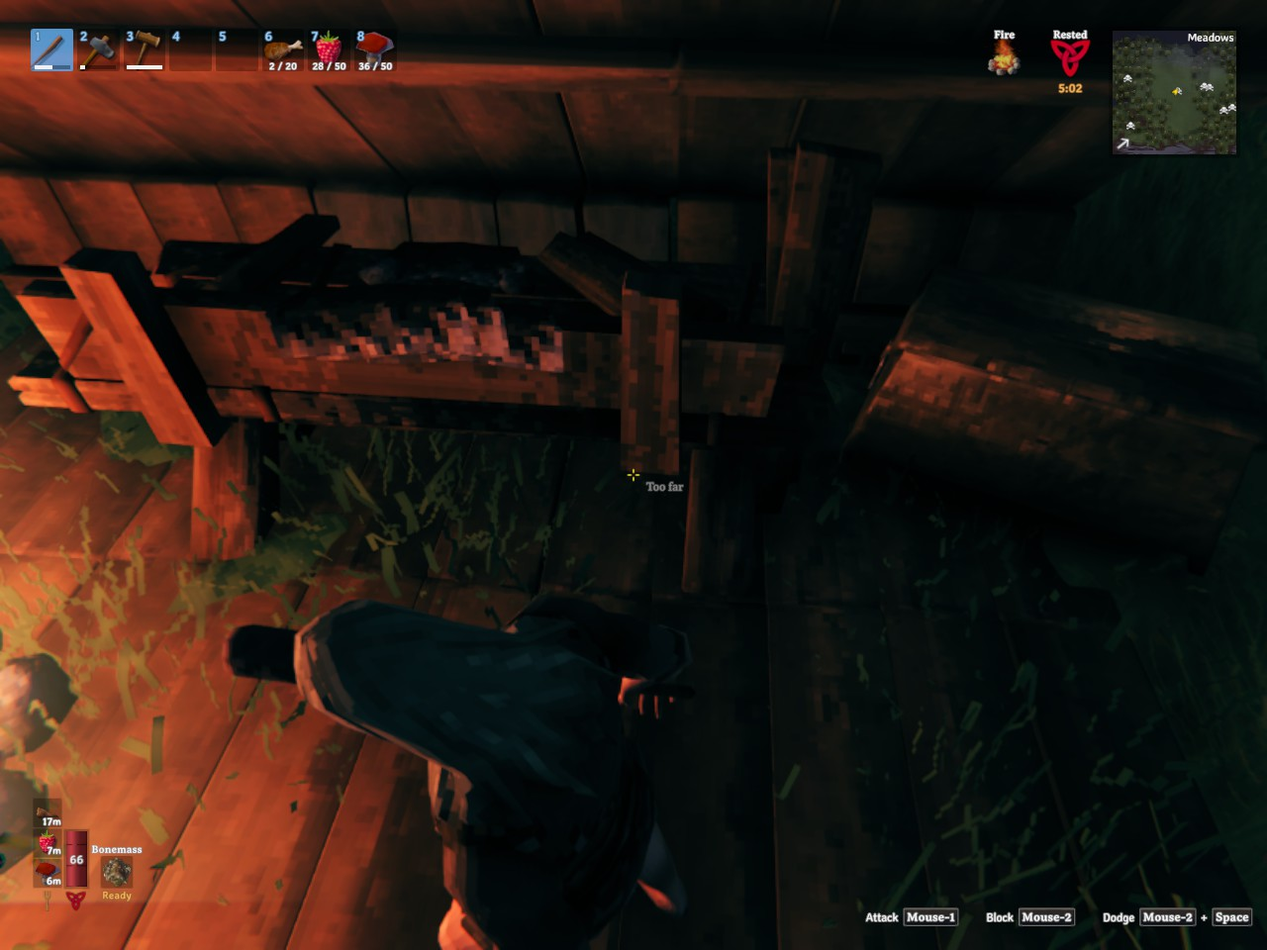Chest: (866, 267, 1261, 531)
Workbench: (10, 226, 781, 576)
